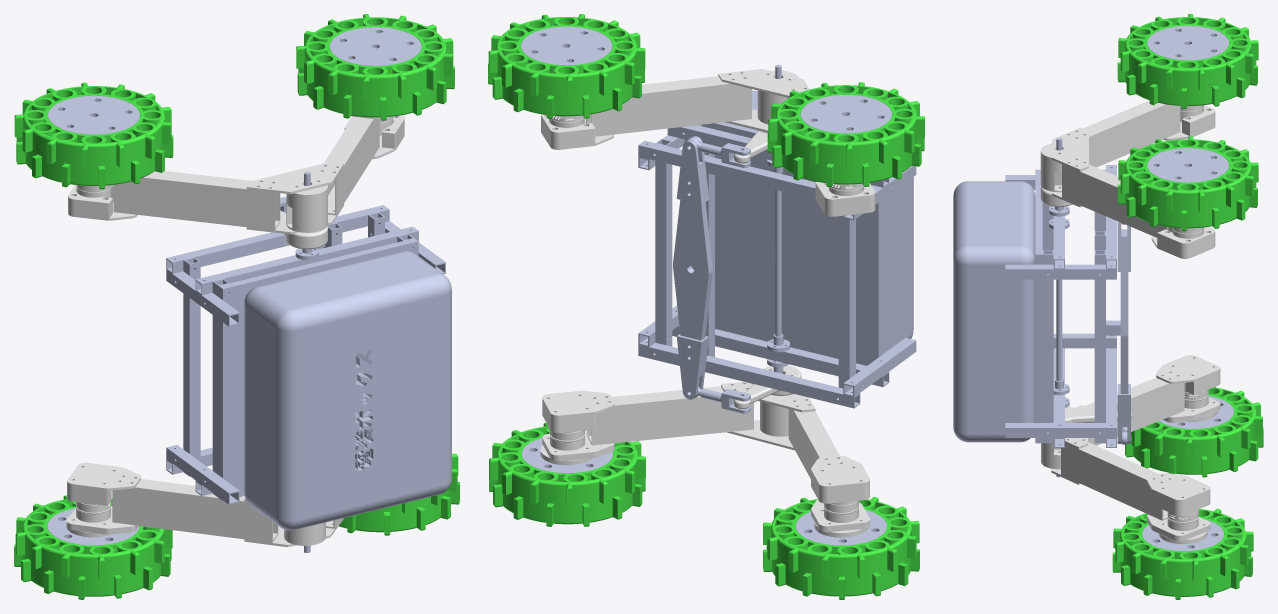
File: URDF v1 v2 1.fbx
3 views of the same model, side by side, from view 1: azimuth 30°, elevation 25°; view 2: azimuth 150°, elevation 25°; view 3: azimuth 270°, elevation 25° (orthographic). The views are drawn at different scales.
Visible parts, largest first — view 1: Body21, Body1 (×6), Body3 (×5), Body4 (×4), Body6 (×3), Body13, Body2 (×4), Body9 (×2), Body12, Body7, Body11, Body55 (+1 smaller); view 2: Body1 (×10), Body3 (×8), Body13, Body4 (×4), Body2 (×6), Body5, Body9 (×3), Body10 (×3), Body11 (×2), Body21, Body12, Body6 (×2) (+5 smaller); view 3: Body21, Body3 (×8), Body1 (×7), Body4 (×3), Body5 (×2), Body6 (×3), Body2 (×6), Body10 (×3), Body7 (×2), Body8 (×2), Body9 (×2), Body13 (+3 smaller).
Boxes of the visible parts, bbox=[...] form: Body21: bbox=[244, 251, 451, 530]; Body1 (×6): bbox=[14, 14, 459, 599]; Body3 (×5): bbox=[15, 66, 458, 580]; Body4 (×4): bbox=[48, 27, 421, 542]; Body6 (×3): bbox=[67, 171, 418, 534]; Body13: bbox=[219, 238, 418, 500]; Body2 (×4): bbox=[47, 162, 343, 545]; Body9 (×2): bbox=[68, 185, 200, 476]; Body12: bbox=[166, 205, 389, 273]; Body7: bbox=[67, 462, 140, 490]; Body11: bbox=[67, 483, 111, 505]; Body55: bbox=[280, 210, 327, 249]; Body1 (×10): bbox=[488, 14, 924, 599]; Body3 (×8): bbox=[488, 63, 924, 579]; Body13: bbox=[701, 122, 888, 365]; Body4 (×4): bbox=[521, 26, 916, 478]; Body2 (×6): bbox=[521, 69, 916, 545]; Body5: bbox=[587, 386, 753, 445]; Body9 (×3): bbox=[542, 182, 875, 417]; Body10 (×3): bbox=[541, 114, 672, 432]; Body11 (×2): bbox=[638, 342, 869, 503]; Body21: bbox=[752, 90, 913, 349]; Body12: bbox=[638, 140, 815, 199]; Body6 (×2): bbox=[667, 125, 889, 532]; Body21: bbox=[953, 181, 1035, 442]; Body3 (×8): bbox=[1053, 60, 1262, 581]; Body1 (×7): bbox=[1040, 14, 1263, 599]; Body4 (×3): bbox=[1085, 25, 1228, 445]; Body5 (×2): bbox=[1005, 423, 1167, 520]; Body6 (×3): bbox=[1053, 100, 1220, 422]; Body2 (×6): bbox=[1041, 127, 1233, 551]; Body10 (×3): bbox=[1094, 227, 1215, 515]; Body7 (×2): bbox=[1042, 250, 1220, 443]; Body8 (×2): bbox=[1005, 264, 1210, 541]; Body9 (×2): bbox=[1147, 105, 1215, 502]; Body13: bbox=[1035, 169, 1042, 443].
Bounding box in the file's own units: 581 × 601 × 417.
